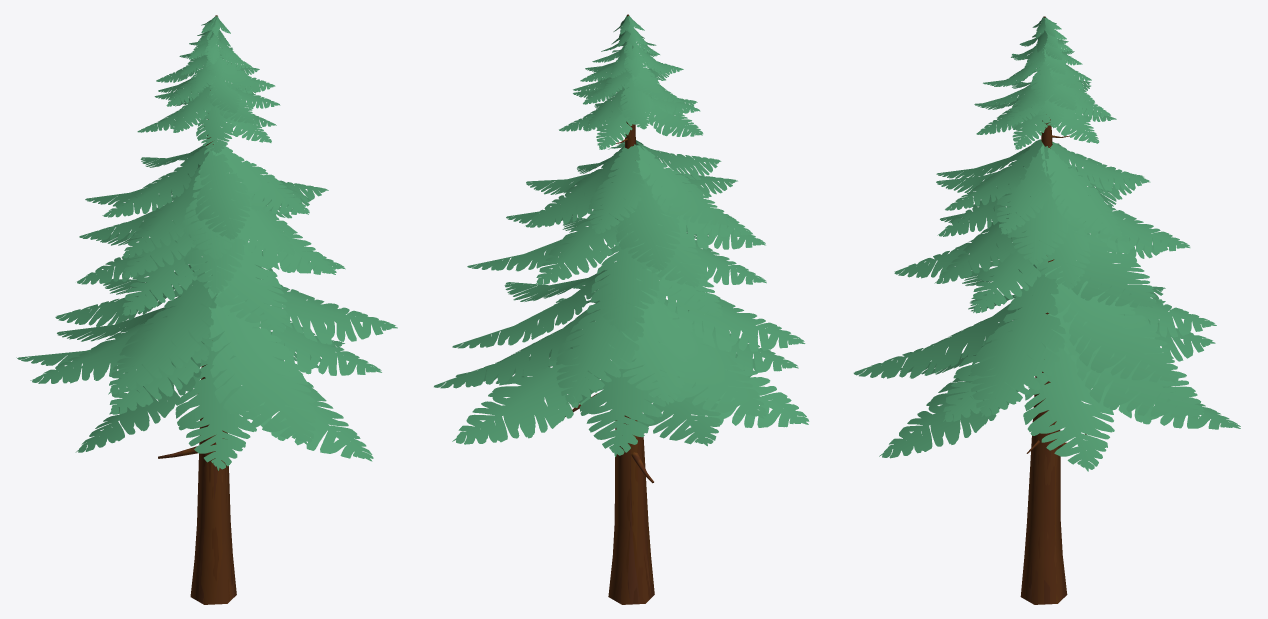
The model's file is STPine4.glb.
The picture shows the model from 3 angles, left to right: view 1: azimuth 30°, elevation 25°; view 2: azimuth 150°, elevation 25°; view 3: azimuth 270°, elevation 25°; orthographic projection.
Parts seen in each view (by area): view 1: PineTree4; view 2: PineTree4; view 3: PineTree4.
Part boxes in pixels (x1,y1,x2,y2): PineTree4: [16, 15, 397, 604]; PineTree4: [434, 14, 809, 604]; PineTree4: [853, 16, 1240, 604].
Size of the model in its own units: 7.46 by 12.62 by 7.91.
Materials: 2 (2 with a texture image).
